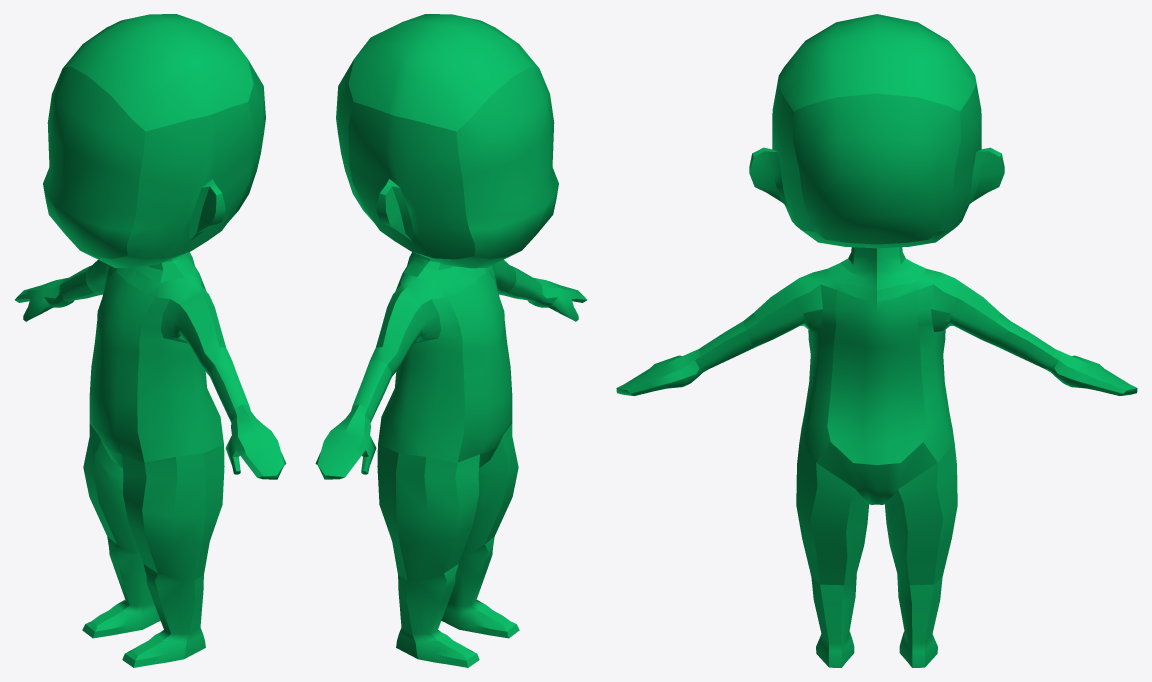
File: GreenPlaceholder.fbx
The picture shows the model from 3 angles, left to right: view 1: azimuth 30°, elevation 25°; view 2: azimuth 150°, elevation 25°; view 3: azimuth 270°, elevation 25°; orthographic projection. The views are drawn at different scales.
Visible parts, largest first — view 1: Body, Head; view 2: Body, Head; view 3: Body, Head.
Boxes of the visible parts, box(x1,y1,x2,y2) form: Body: box(15, 252, 286, 667); Head: box(43, 14, 265, 268); Body: box(315, 252, 586, 667); Head: box(336, 14, 558, 268); Body: box(616, 247, 1137, 667); Head: box(749, 14, 1004, 248).
Size of the model in its own units: 2.26 by 6.64 by 4.97.
